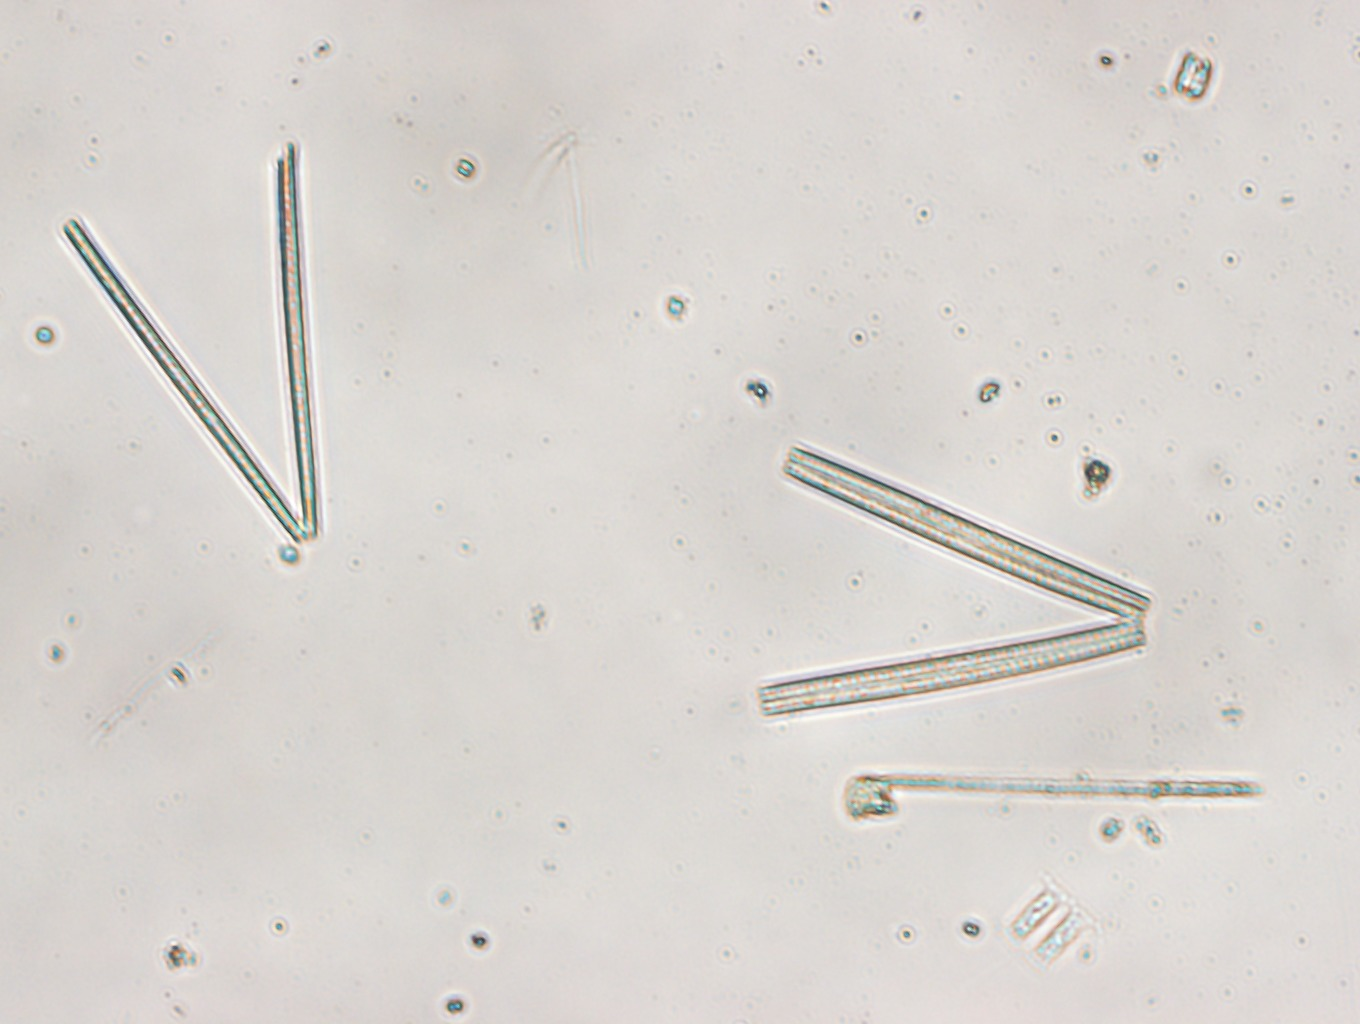thalassionema frauenfeldii: (753, 443, 1149, 719), (62, 141, 319, 544)
